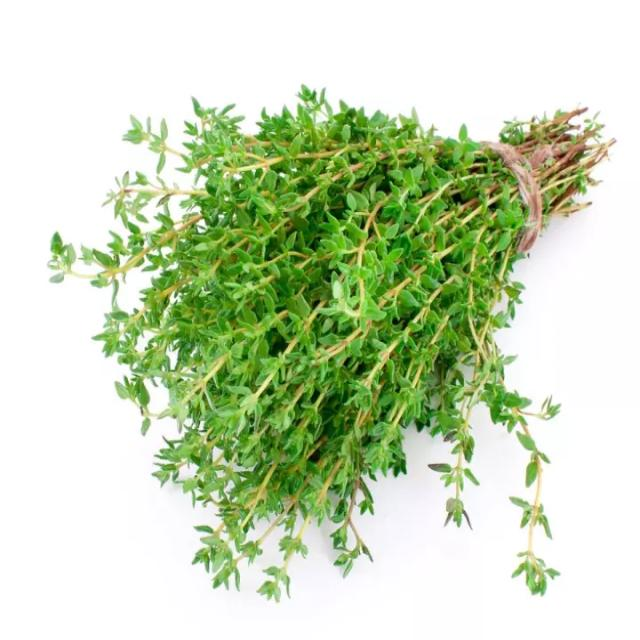Thyme: (37, 55, 620, 608)
